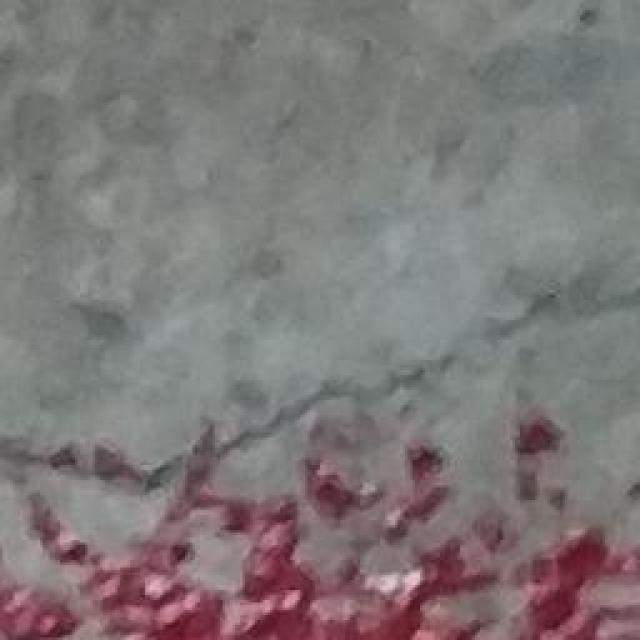Radial: (3, 245, 640, 471)
Rippled: (9, 477, 640, 640)
